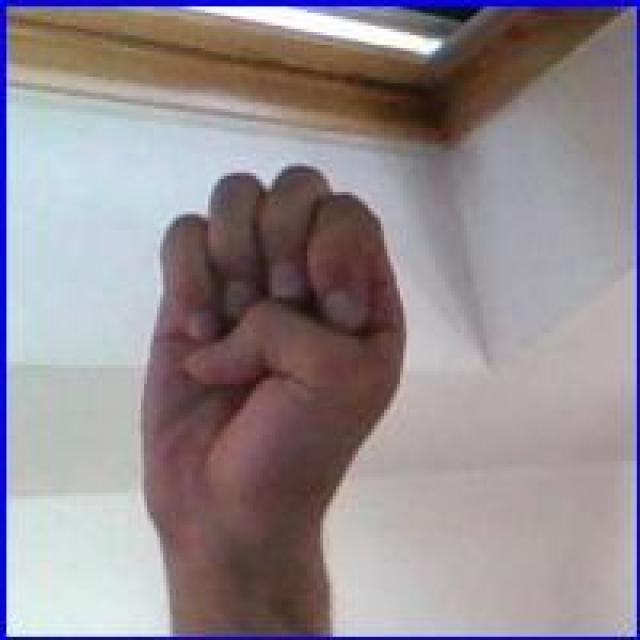E: (130, 160, 414, 544)
